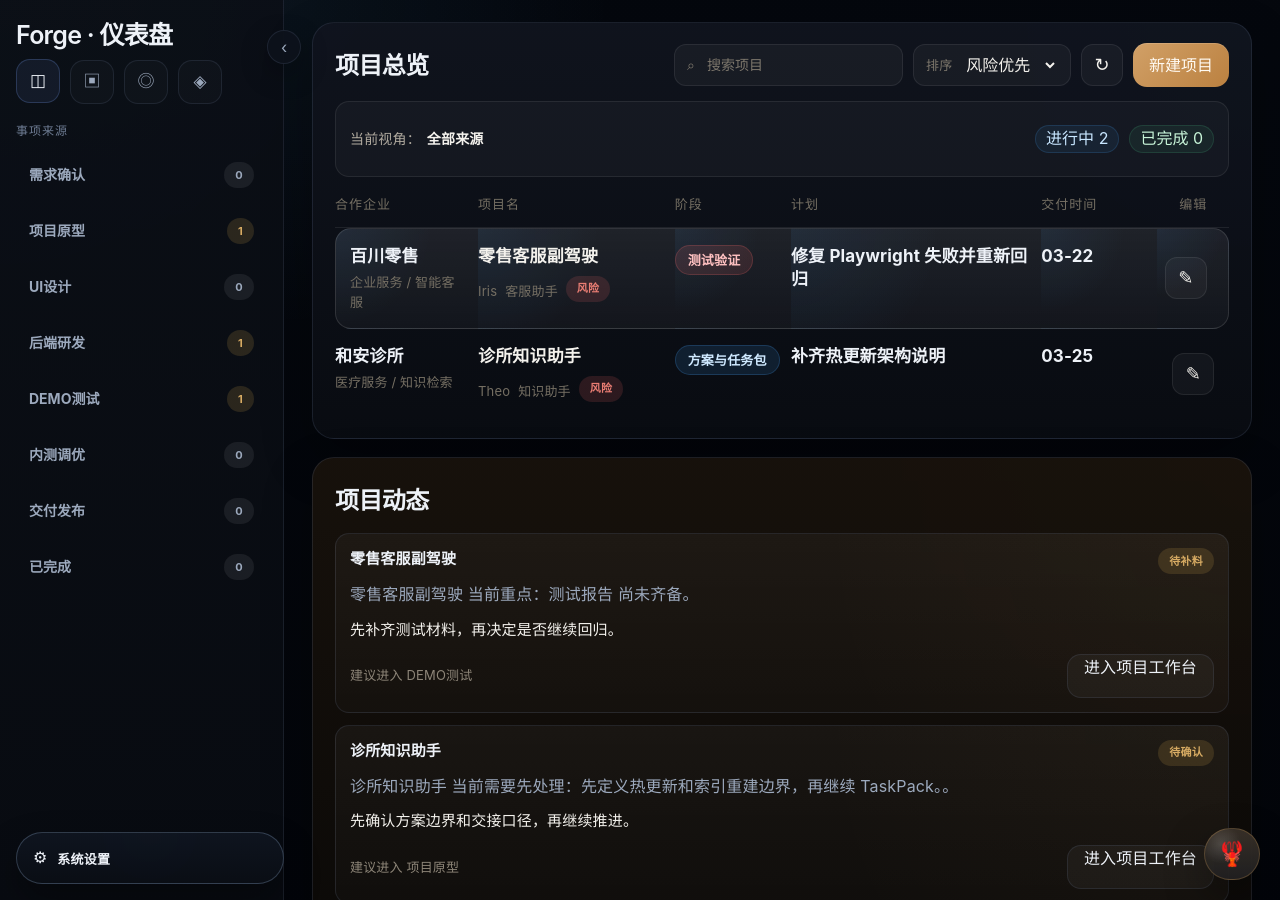
Scenario: Forge home page › uses open-source-friendly generic placeholders in the create project dialog
Click the button "新建项目" at (1181, 65), box x1=1133 y1=43 x2=1229 y2=87
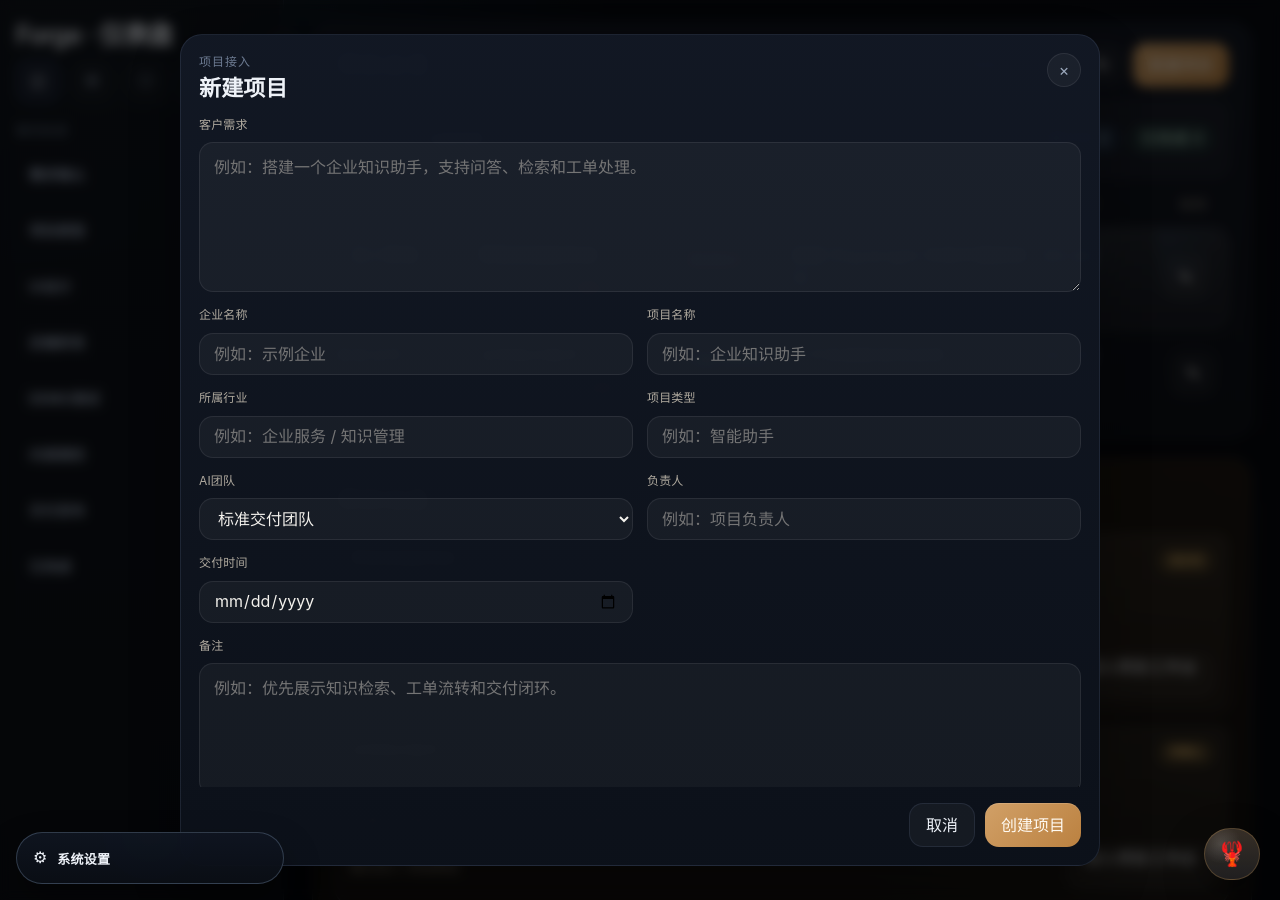
Result: the text box with placeholder "例如：搭建一个企业知识助手，支持问答、检索和工单处理。" is shown at x1=199 y1=142 x2=1081 y2=292
Result: the field with placeholder "例如：示例企业" is shown at x1=199 y1=333 x2=633 y2=375
Result: the field with placeholder "例如：项目负责人" is shown at x1=647 y1=498 x2=1081 y2=540
